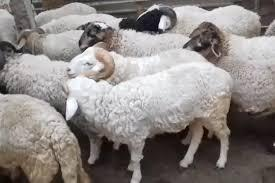Sheep: (51, 68, 122, 120), (58, 40, 132, 87), (178, 16, 236, 67), (130, 1, 182, 37), (76, 19, 119, 51)
